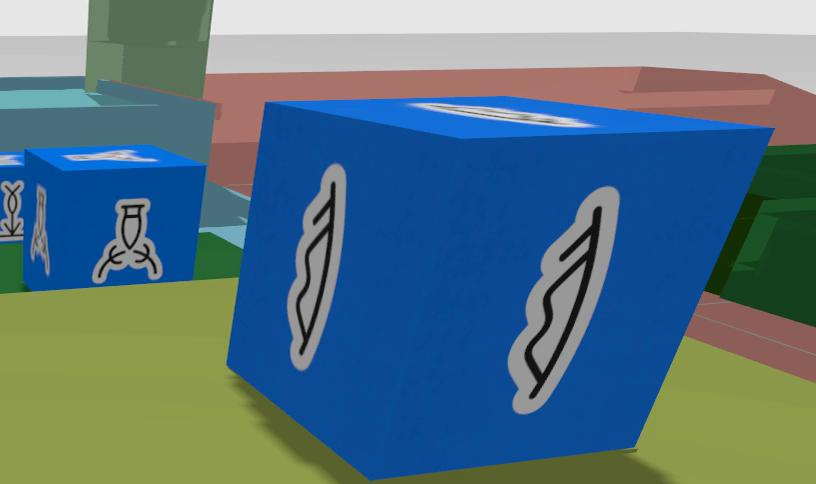KFS_REAL: (507, 186, 619, 413), (287, 163, 345, 369), (93, 199, 162, 283), (29, 184, 49, 274), (65, 149, 157, 161)
